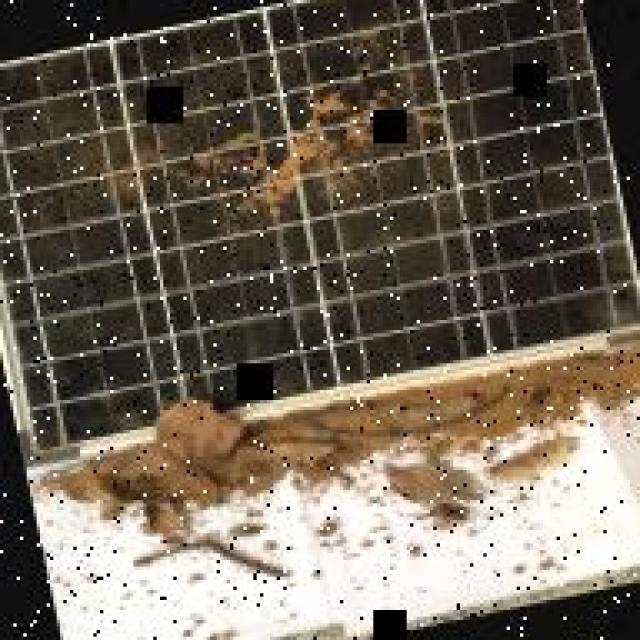dust-solar-panel: (0, 0, 640, 459)
